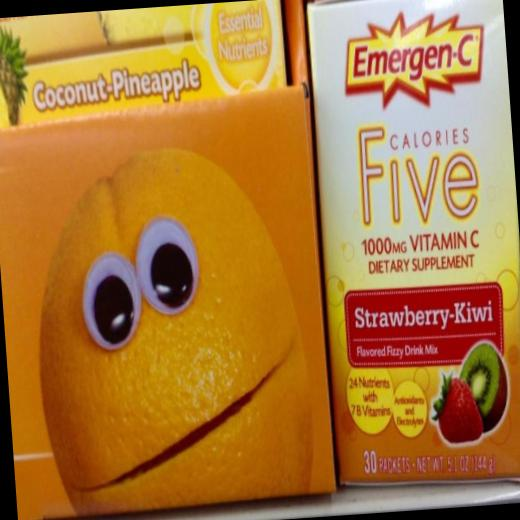Grape: (0, 84, 309, 478)
